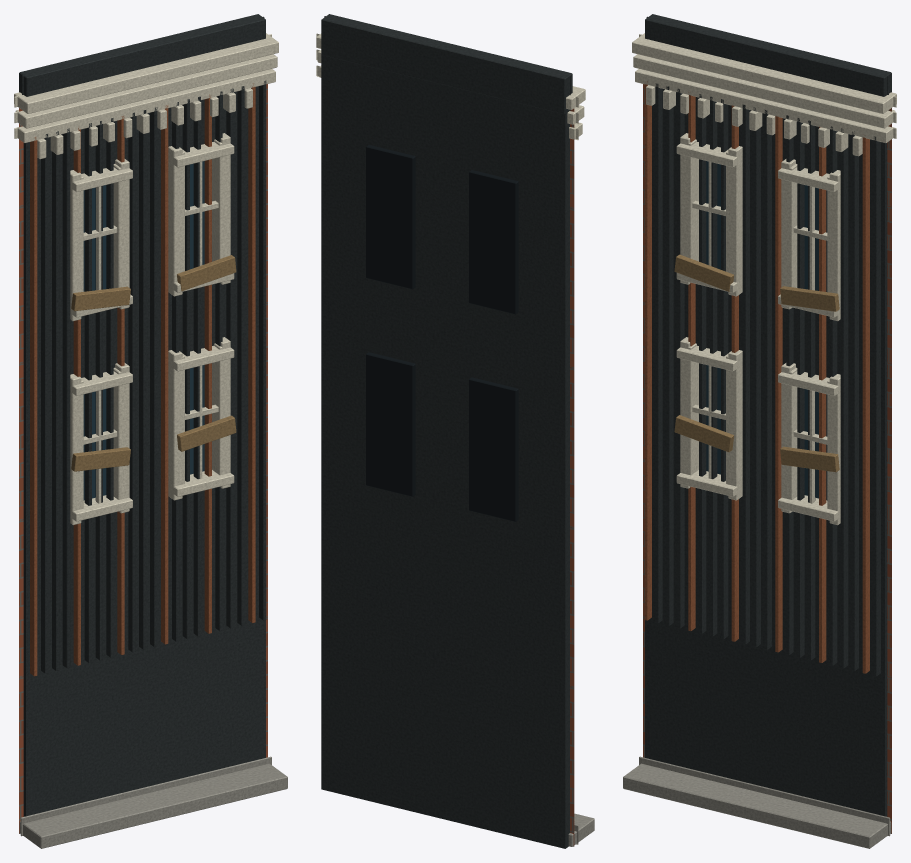
File: WRHS8_lod1.glb
The picture shows the model from 3 angles, left to right: view 1: azimuth 30°, elevation 25°; view 2: azimuth 150°, elevation 25°; view 3: azimuth 330°, elevation 25°; orthographic projection.
Visible parts, largest first — view 1: WRHS8_FRONT_LOD1; view 2: WRHS8_FRONT_LOD1; view 3: WRHS8_FRONT_LOD1.
Boxes of the visible parts, x1,y1,x2,y2 form: WRHS8_FRONT_LOD1: (14, 14, 287, 848); WRHS8_FRONT_LOD1: (316, 14, 594, 848); WRHS8_FRONT_LOD1: (623, 14, 896, 848).
Size of the model in its own units: 3.44 by 9.66 by 0.65.
Materials: 9 (7 with a texture image).
